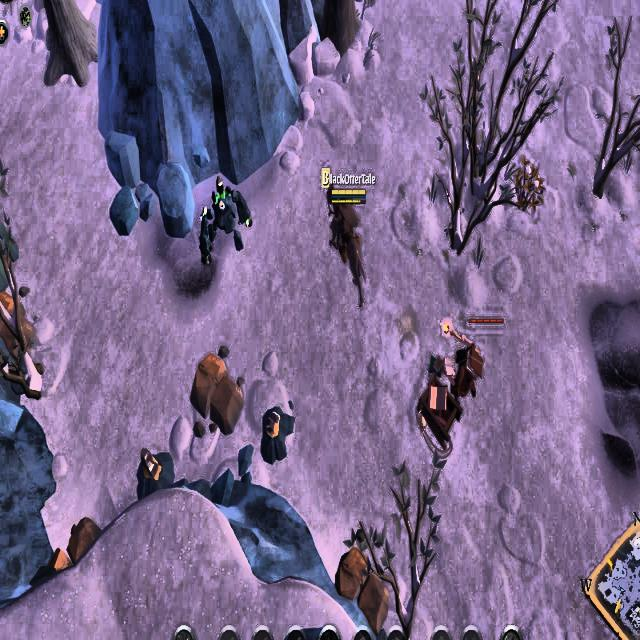copperore: (133, 444, 176, 501), (259, 402, 294, 463)
limestone: (190, 348, 243, 438), (334, 546, 388, 631), (49, 512, 105, 577), (0, 288, 33, 362)
sandstone: (0, 219, 19, 288)
